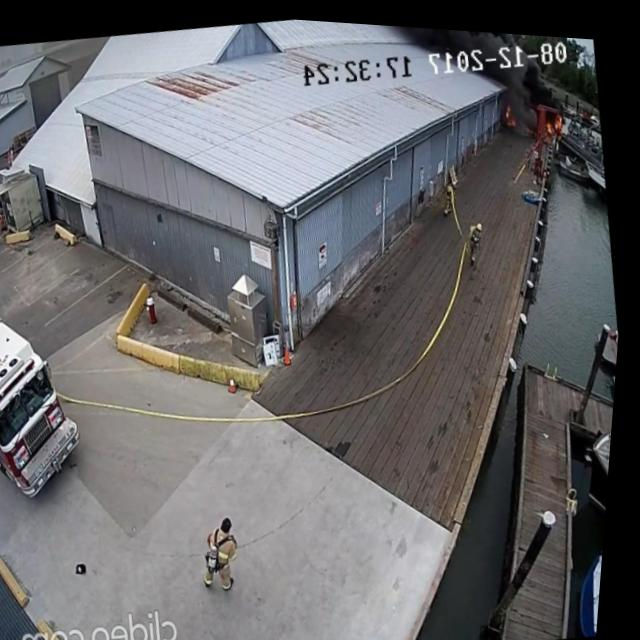fire: (541, 102, 570, 135), (499, 93, 525, 125)
